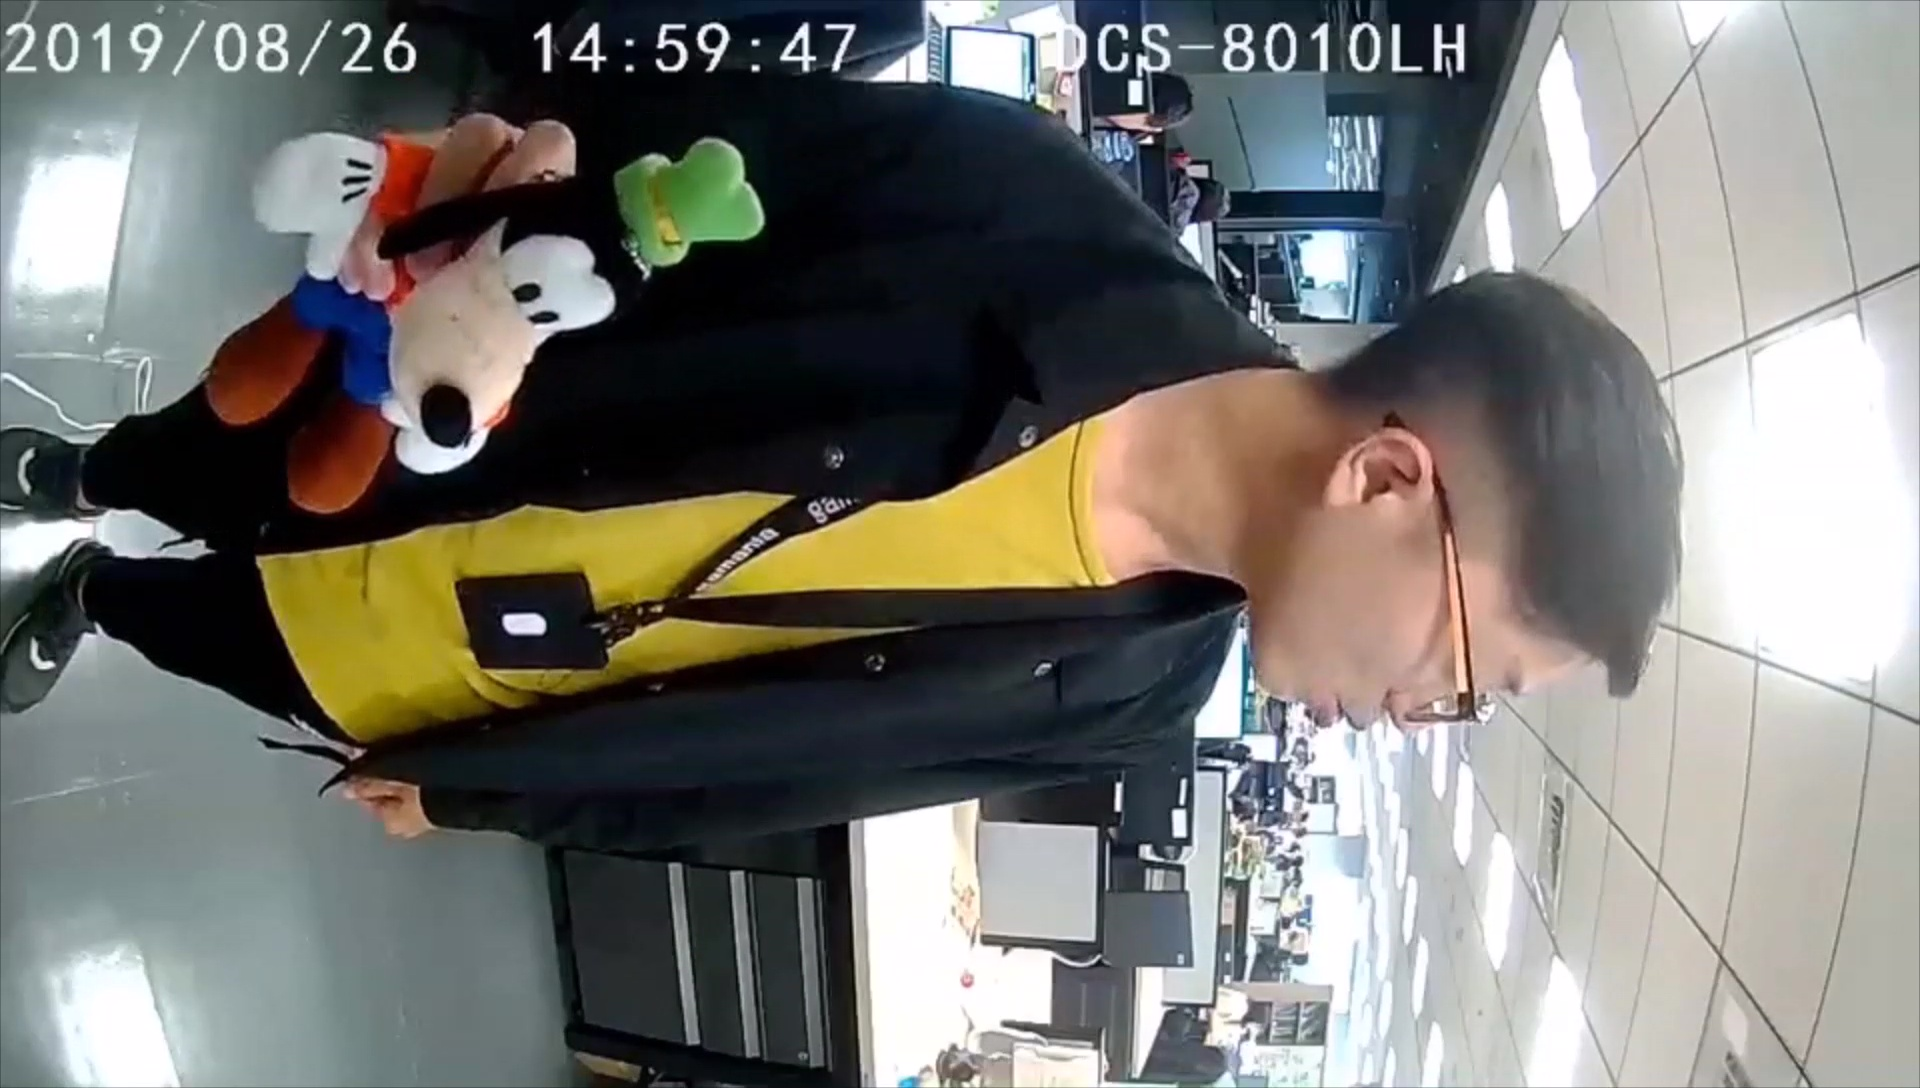goofy: (203, 128, 769, 513)
